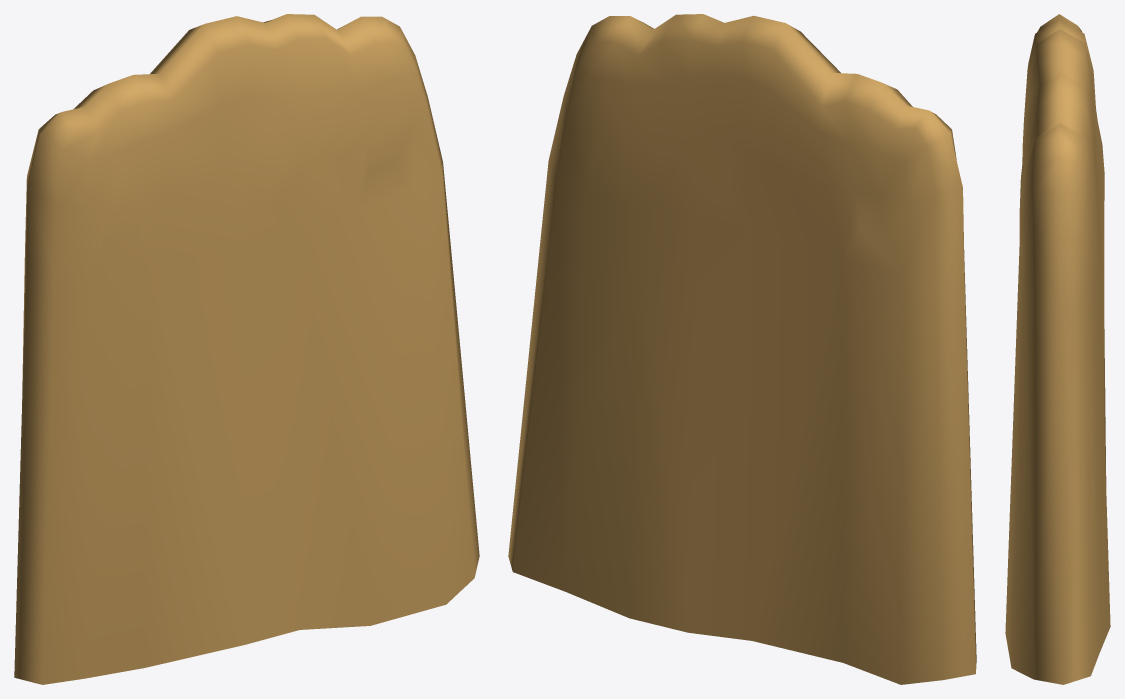
Rendered from LOD1_mur_fin.fbx.
3 views of the same model, side by side, from view 1: azimuth 30°, elevation 25°; view 2: azimuth 150°, elevation 25°; view 3: azimuth 270°, elevation 25° (orthographic). The views are drawn at different scales.
Parts seen in each view (by area): view 1: Mur_Fin__LOD1; view 2: Mur_Fin__LOD1; view 3: Mur_Fin__LOD1.
Boxes of the visible parts, x1=… form: Mur_Fin__LOD1: x1=14, y1=14, x2=479, y2=684; Mur_Fin__LOD1: x1=508, y1=14, x2=976, y2=684; Mur_Fin__LOD1: x1=1005, y1=14, x2=1110, y2=684.
Bounding box in the file's own units: 3215 × 4030 × 703.
